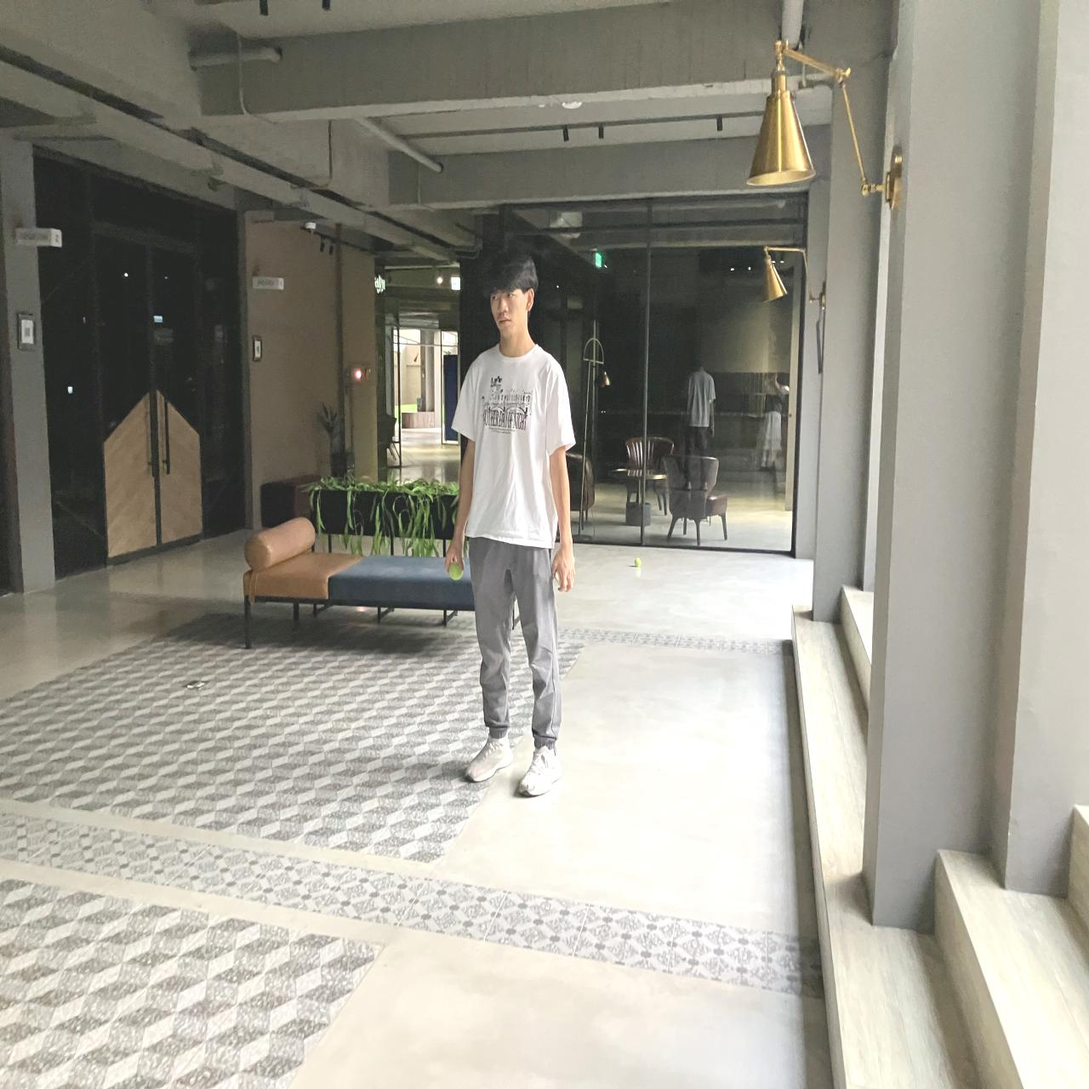person: (447, 252, 574, 795)
tennisball: (448, 563, 464, 580), (636, 557, 641, 567)
